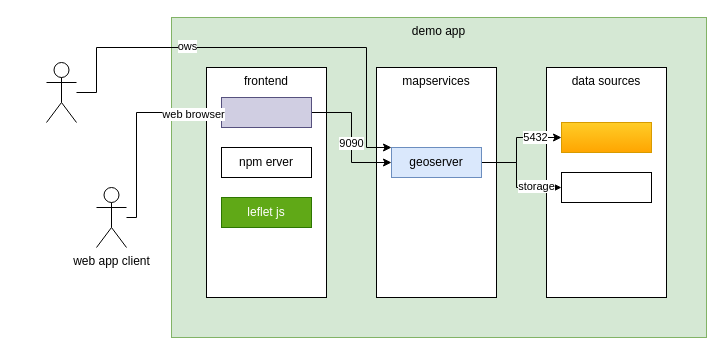
The diagram is 724 pixels wide and 355 high, and some of its shapes have lost their labels. The shapes that lost their labels are listed below. From the top down, each one's centre as x and y in pixels, then its label:
the point at 61,92: gis system client
the point at 266,112: react app
the point at 606,137: postgis
the point at 606,187: gpkg, fgb files
